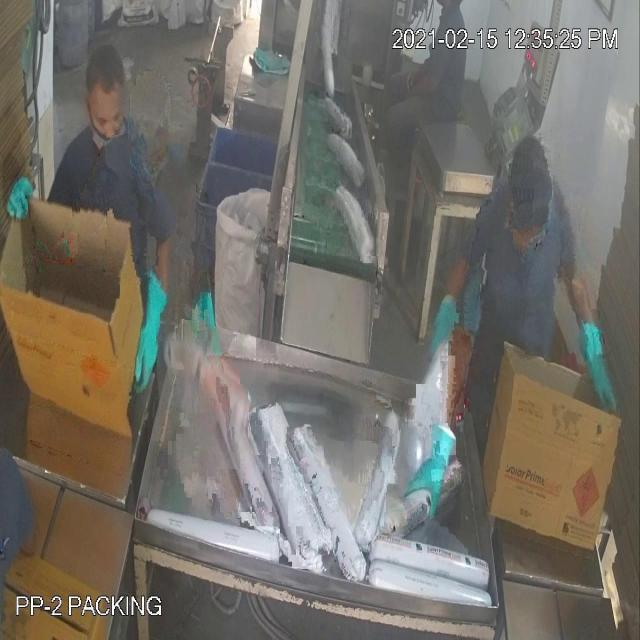Gloves: (49, 105, 596, 474)
